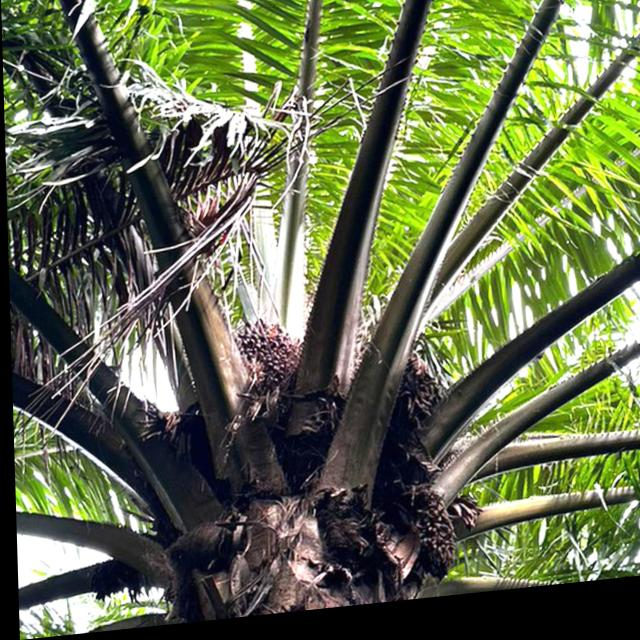ripe: (231, 314, 305, 404)
